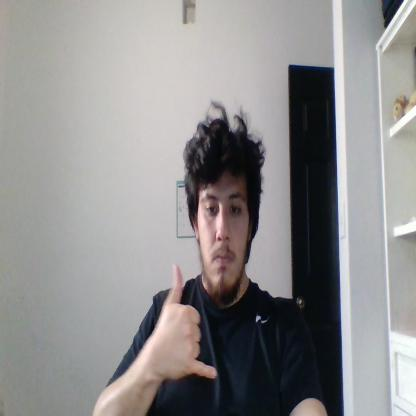Y: (155, 265, 218, 380)
